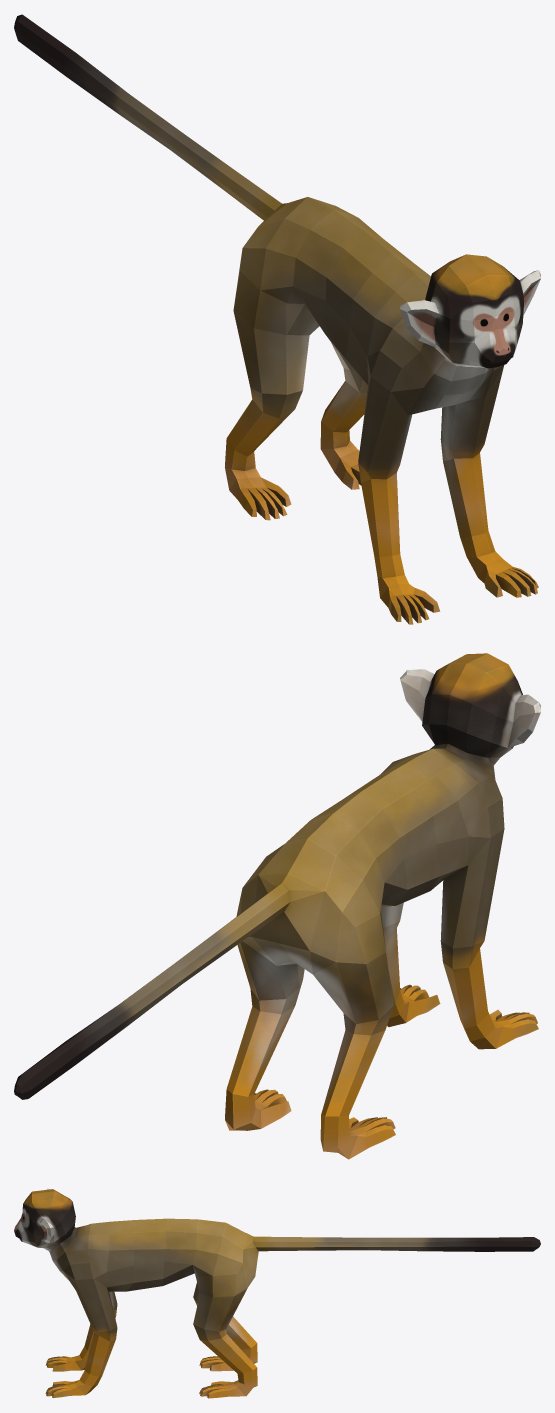
File: SquirrelMonkey.gltf
3 renders of one model, top to bottom at view 1: azimuth 30°, elevation 25°; view 2: azimuth 150°, elevation 25°; view 3: azimuth 270°, elevation 25°, orthographic. The views are drawn at different scales.
Visible parts, largest first — view 1: node-0; view 2: node-0; view 3: node-0.
Boxes of the visible parts, x1=… form: node-0: x1=14, y1=14, x2=540, y2=624; node-0: x1=14, y1=653, x2=540, y2=1159; node-0: x1=14, y1=1188, x2=540, y2=1398.
Bounding box in the file's own units: 1.52 × 3.53 × 8.89.
Materials: 1 (1 with a texture image).
